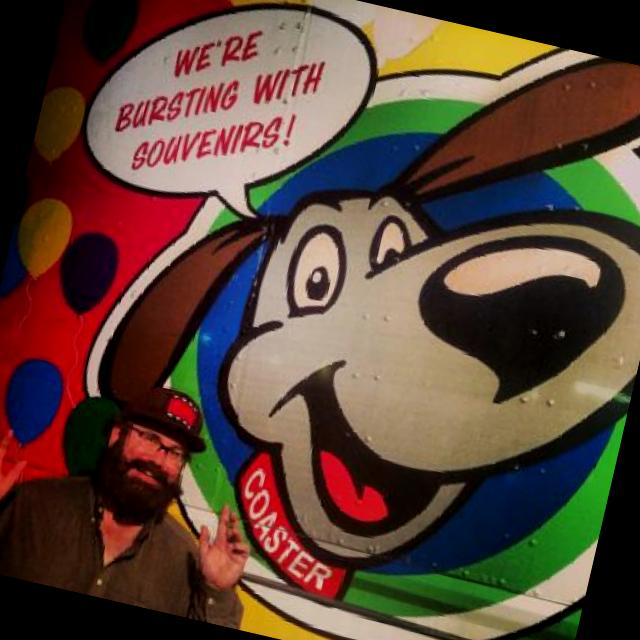Person: (0, 348, 265, 621)
